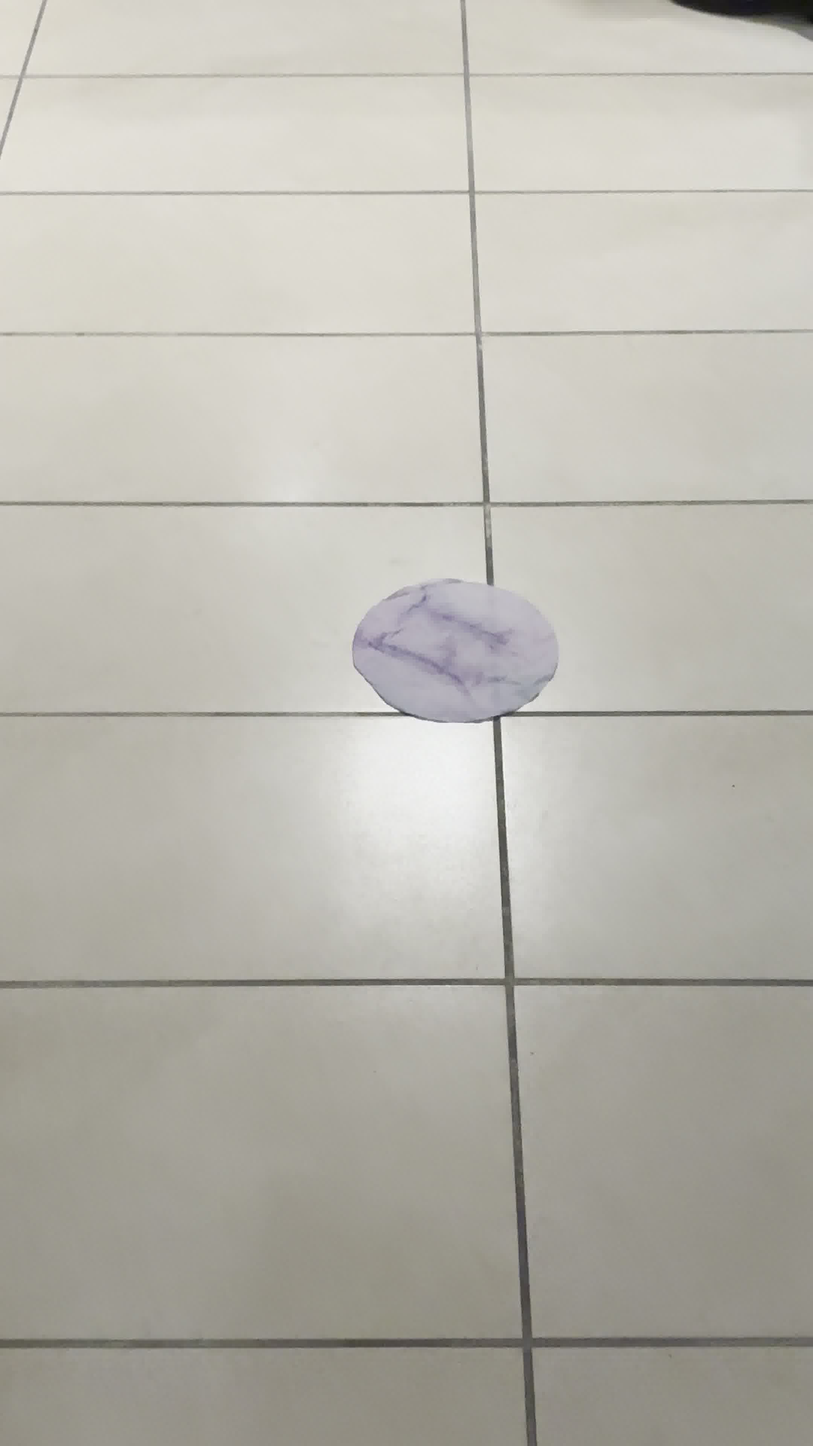Target: (352, 578, 559, 723)
